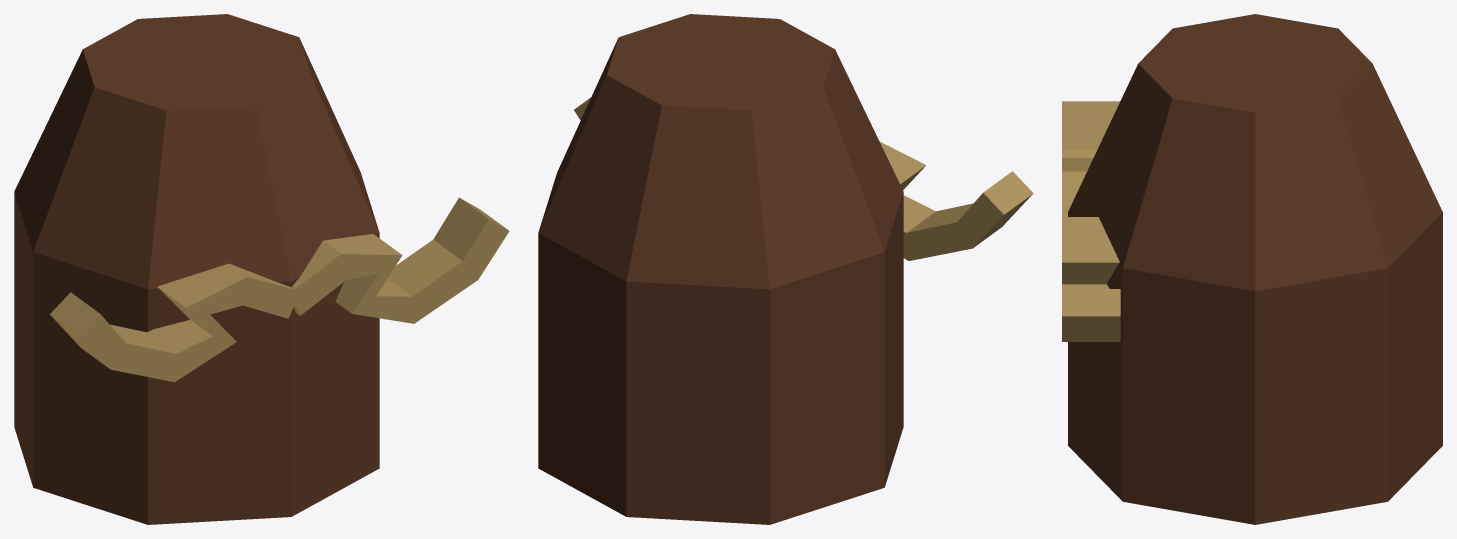
File: cloud_cork.obj
The picture shows the model from 3 angles, left to right: view 1: azimuth 30°, elevation 25°; view 2: azimuth 150°, elevation 25°; view 3: azimuth 270°, elevation 25°; orthographic projection.
Visible parts, largest first — view 1: cloud_cork, cork_cloud_left, cork_cloud_right, cork_cloud_right_edge, cork_cloud_left_edge; view 2: cloud_cork, cork_cloud_left_edge, cork_cloud_left; view 3: cloud_cork, cork_cloud_right_edge, cork_cloud_left_edge.
Boxes of the visible parts, <box> form: cloud_cork: <box>14,14,379,524</box>; cork_cloud_left: <box>79,277,300,382</box>; cork_cloud_right: <box>291,219,509,323</box>; cork_cloud_right_edge: <box>291,197,508,315</box>; cork_cloud_left_edge: <box>50,263,293,369</box>; cloud_cork: <box>538,14,903,524</box>; cork_cloud_left_edge: <box>880,142,1033,247</box>; cork_cloud_left: <box>903,193,1003,260</box>; cloud_cork: <box>1068,14,1442,524</box>; cork_cloud_right_edge: <box>1062,217,1120,341</box>; cork_cloud_left_edge: <box>1062,101,1119,216</box>.
Bounding box in the file's own units: 0.4205 × 0.36 × 0.325.
